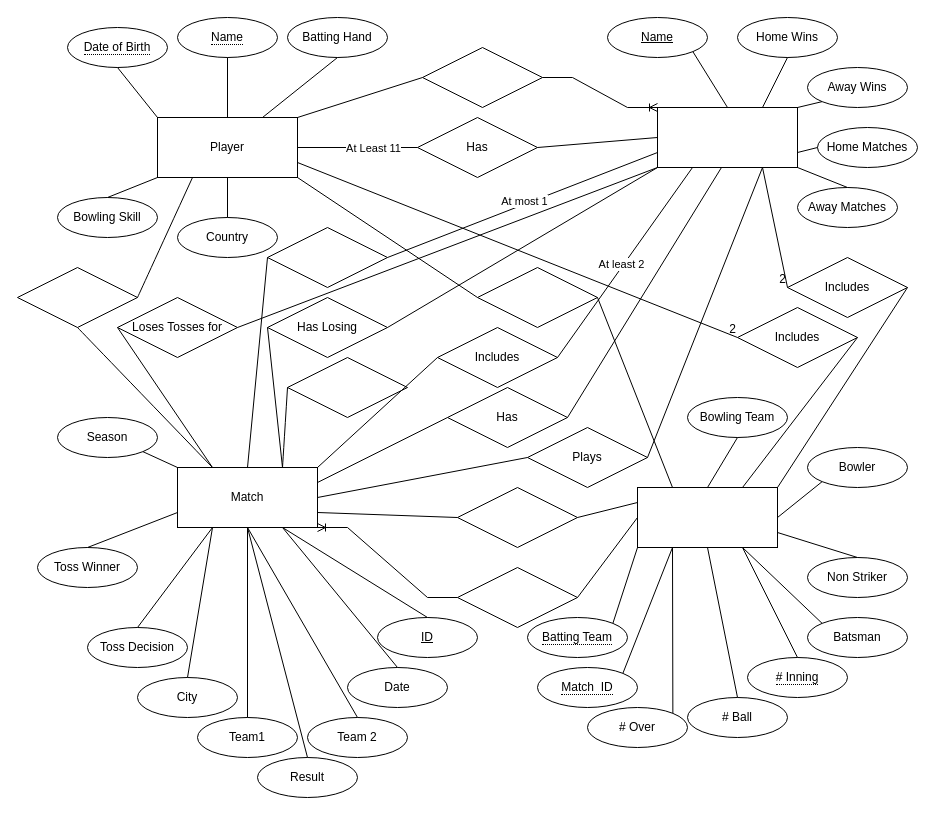
This 935x815 diagram has some shape labels left out. Each missing label, with the centre of its shape:
Associated with: (x=517, y=597)
Belongs to: (x=482, y=77)
Consists of: (x=517, y=517)
Delivery: (x=707, y=517)
Has Winning: (x=327, y=257)
Make: (x=537, y=297)
Plays in: (x=77, y=297)
Team: (x=727, y=137)
Wins tosses for: (x=347, y=387)
